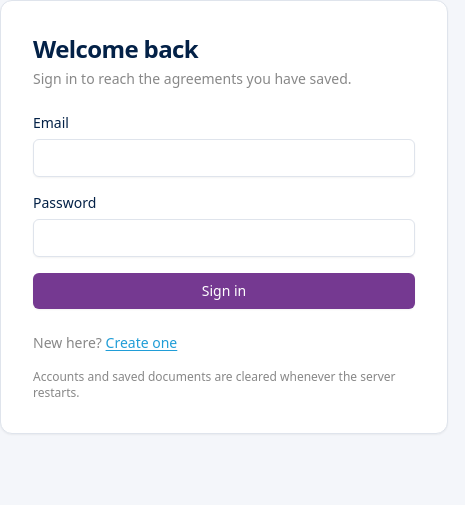
Test: CredentialsForm › signing in › shows why it was refused, and stays put
Type "ada@example.com" into the field labelled "Email".
click(224, 158); type("ada@example.com")  # box [33,139,415,177]
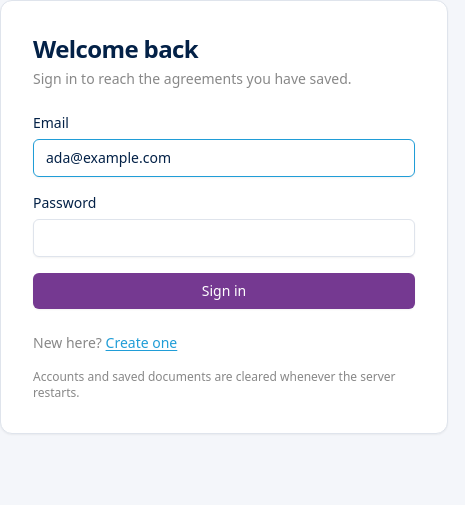
Type "correct-horse" into the password field labelled "Password".
click(224, 238); type("correct-horse")  # box [33,219,415,257]
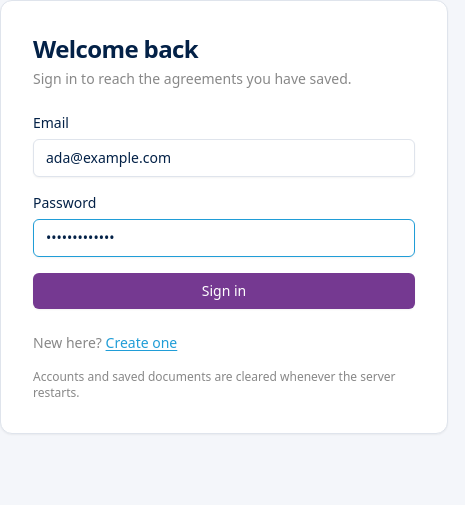
Click the button "Sign in".
click(224, 291)  # box [33,273,415,309]
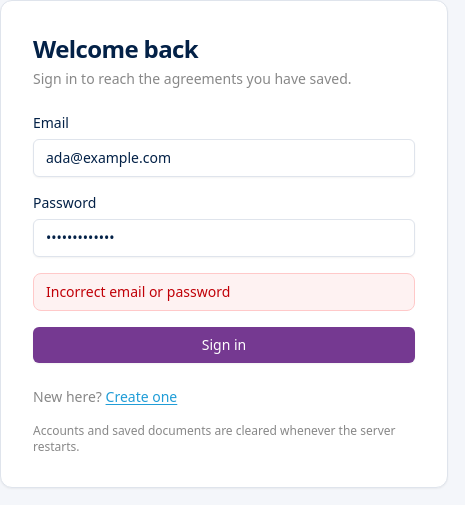
Check: the message reads "Incorrect email or password", box [46,282,230,301]
